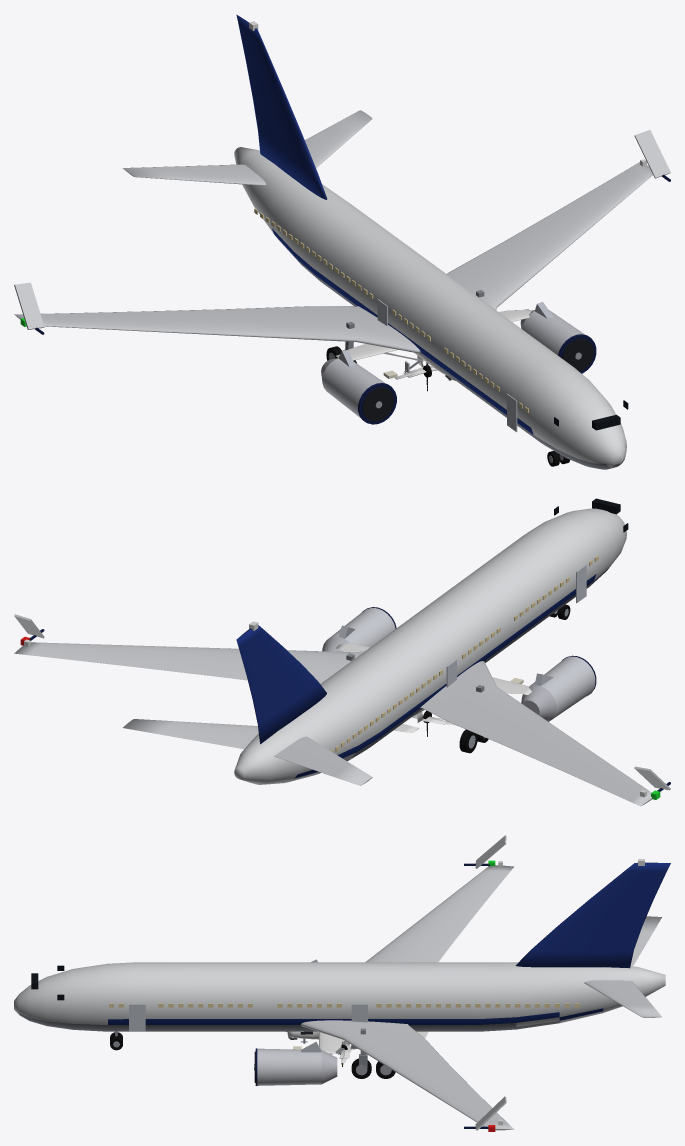
Rendered from aircraft.glb.
3 renders of one model, top to bottom at view 1: azimuth 30°, elevation 25°; view 2: azimuth 150°, elevation 25°; view 3: azimuth 270°, elevation 25°, orthographic. The views are drawn at different scales.
Visible parts, largest first — view 1: jet_blue, jet_lit, cessna_paint; view 2: jet_blue, jet_lit, cessna_paint, jet_gear; view 3: jet_blue, jet_lit, jet_gear, cessna_paint.
Part boxes in pixels (left/top/right/bottom): jet_blue: left=14, top=14, right=670, bottom=469; jet_lit: left=254, top=208, right=528, bottom=412; cessna_paint: left=336, top=309, right=531, bottom=376; jet_blue: left=14, top=498, right=670, bottom=806; jet_lit: left=331, top=555, right=598, bottom=752; cessna_paint: left=336, top=643, right=531, bottom=732; jet_gear: left=346, top=604, right=570, bottom=753; jet_blue: left=14, top=835, right=670, bottom=1130; jet_lit: left=109, top=1003, right=579, bottom=1049; jet_gear: left=110, top=1028, right=395, bottom=1078; cessna_paint: left=289, top=1031, right=428, bottom=1054.
Bounding box in the file's own units: 36.7 × 13.13 × 37.8.
